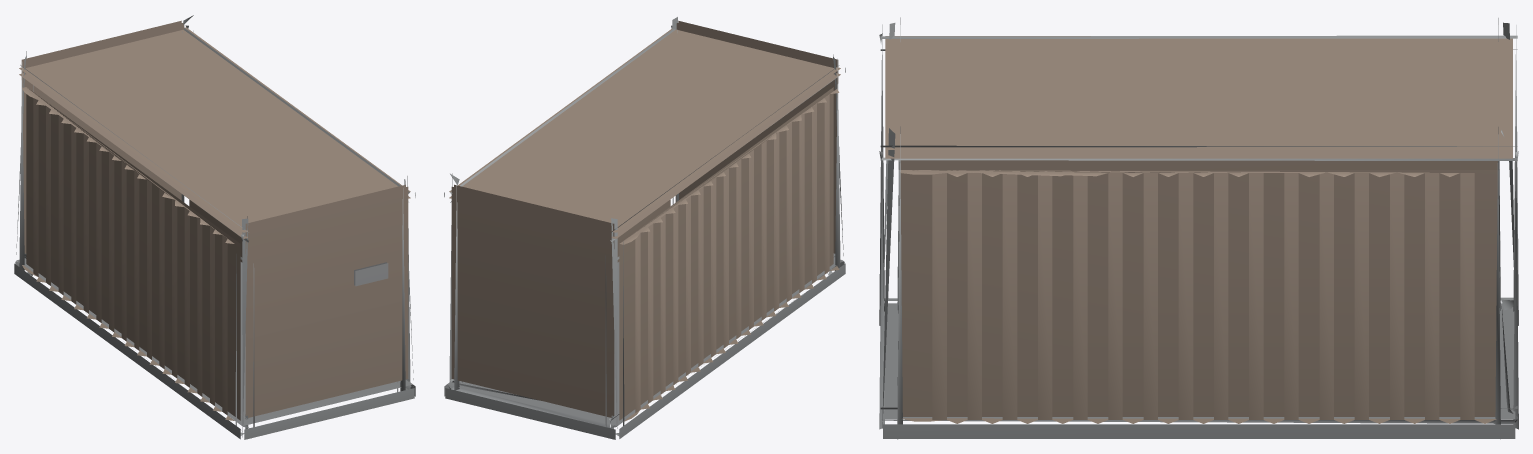
The picture shows the model from 3 angles, left to right: view 1: azimuth 30°, elevation 25°; view 2: azimuth 150°, elevation 25°; view 3: azimuth 270°, elevation 25°; orthographic projection. The views are drawn at different scales.
Visible parts, largest first — view 1: box.001; view 2: box.001; view 3: box.001.
Boxes of the visible parts, x1=… form: box.001: x1=14, y1=15, x2=415, y2=439; box.001: x1=444, y1=17, x2=845, y2=439; box.001: x1=879, y1=17, x2=1518, y2=439.
Size of the model in its own units: 2.51 by 2.89 by 5.44.
